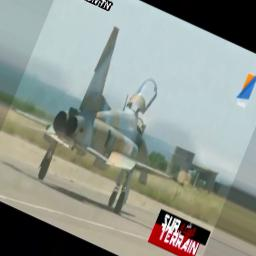Airplane: (15, 53, 179, 212)
